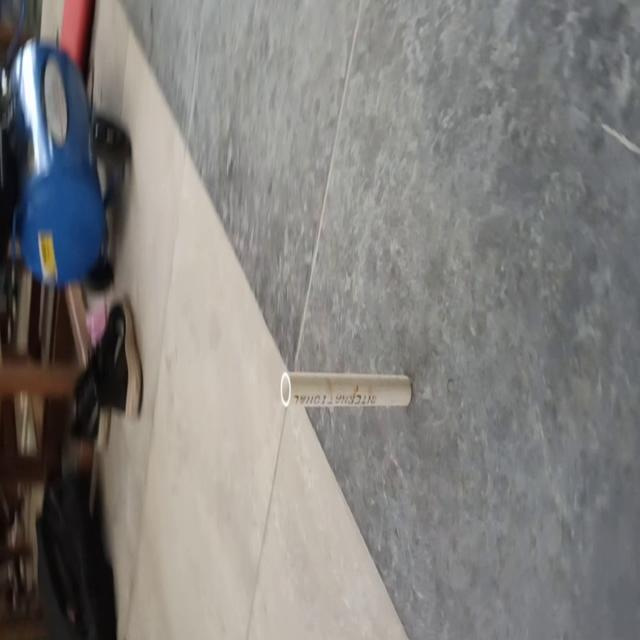Cube: (280, 369, 412, 410)
